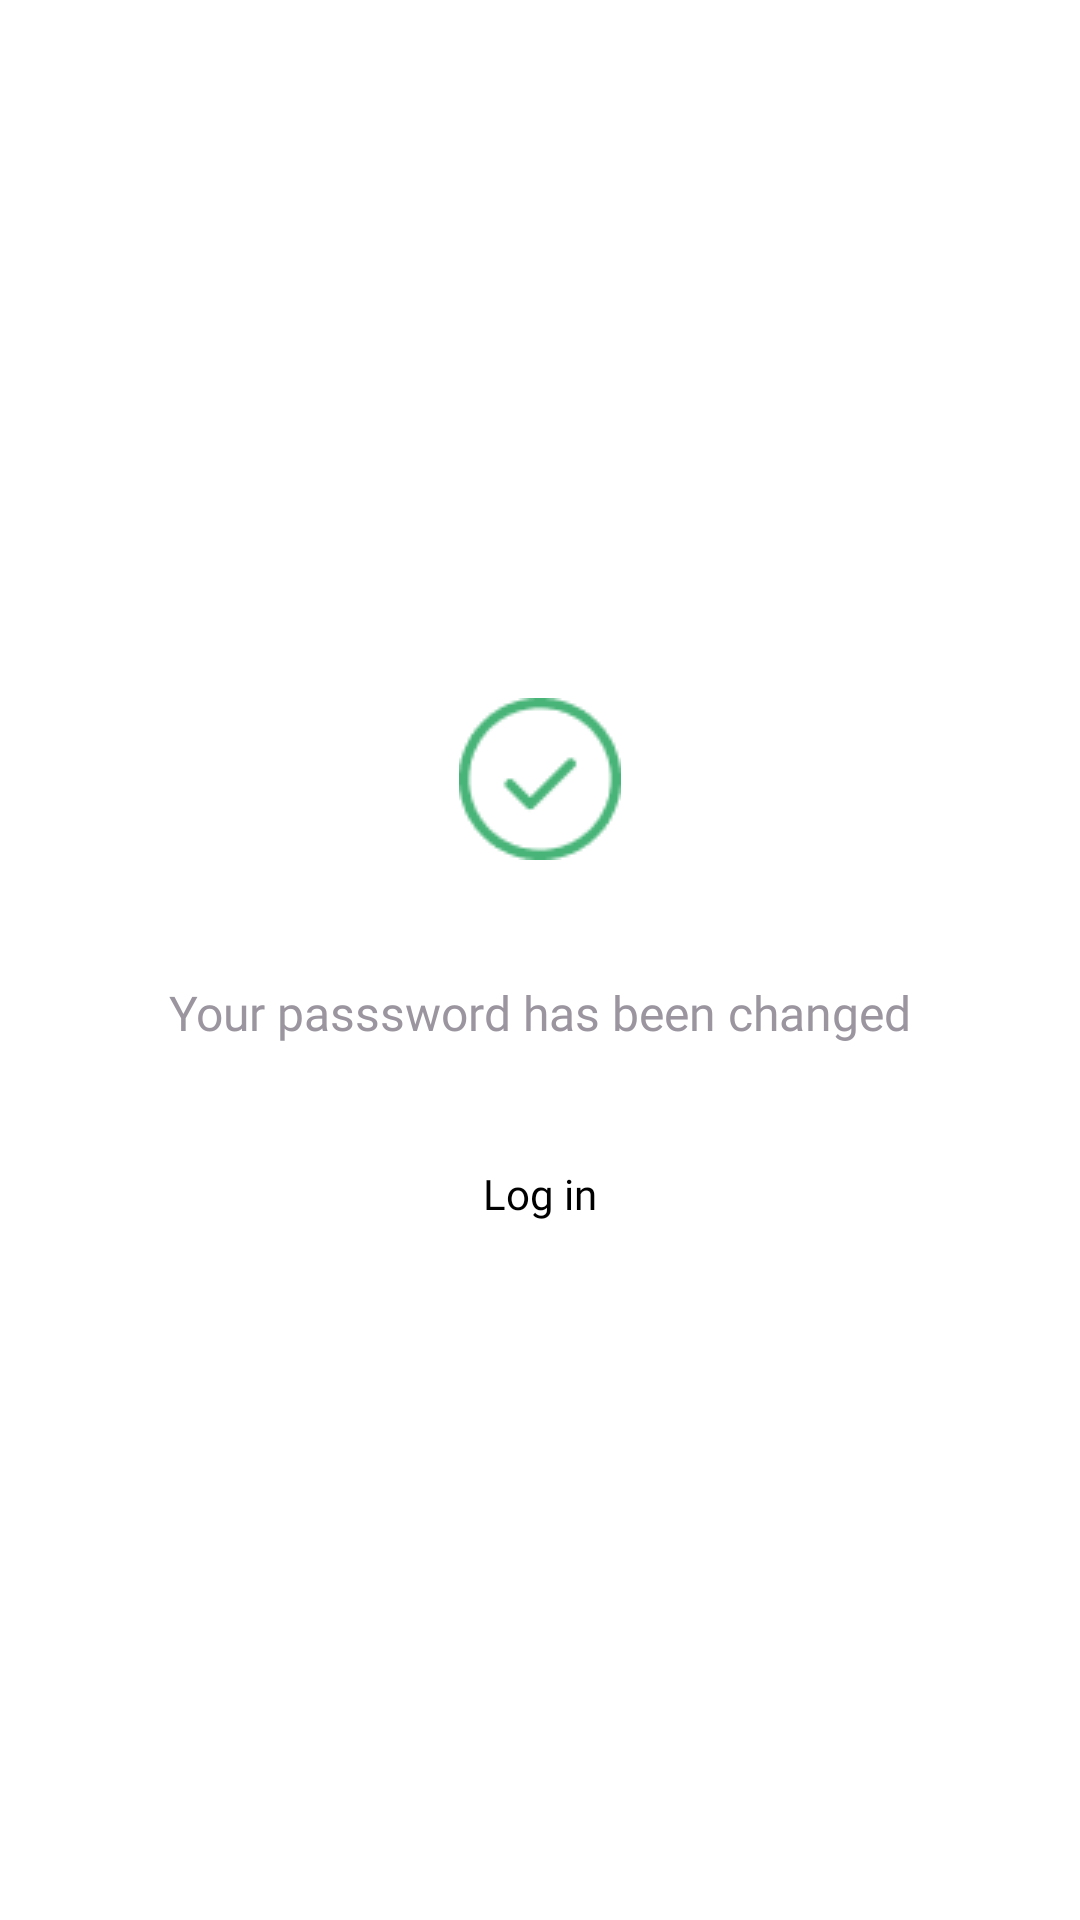

Where to tap for icons on this 1080*1920 app screen, as (x=x, y=y):
successful: (x=540, y=779)
